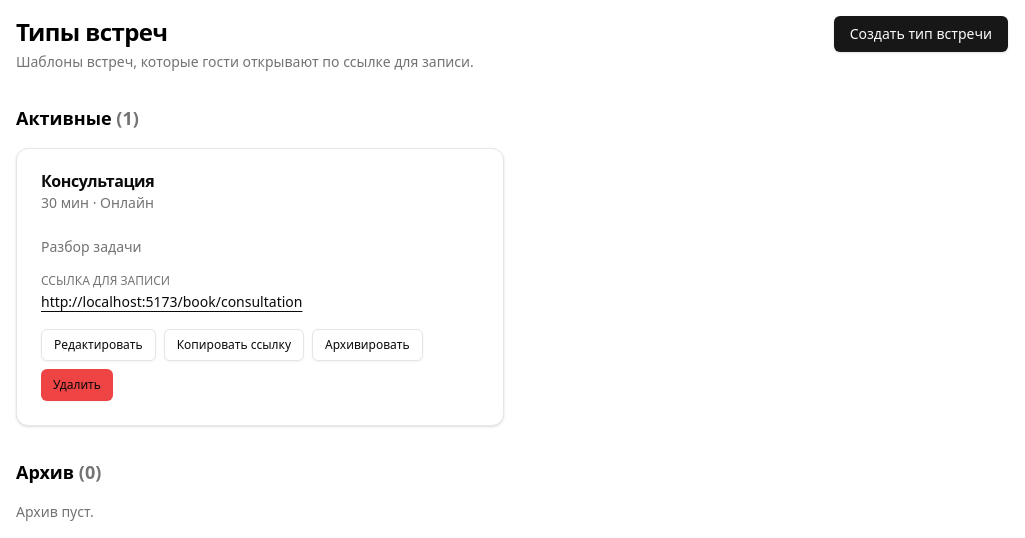
Test case: MeetingTypeListPage › copies an active scheduling link
Check: the link "Консультация" is shown, box [41, 170, 154, 192]
Click the button "Копировать ссылку". click: {"x": 234, "y": 345}
box: [164, 329, 304, 361]
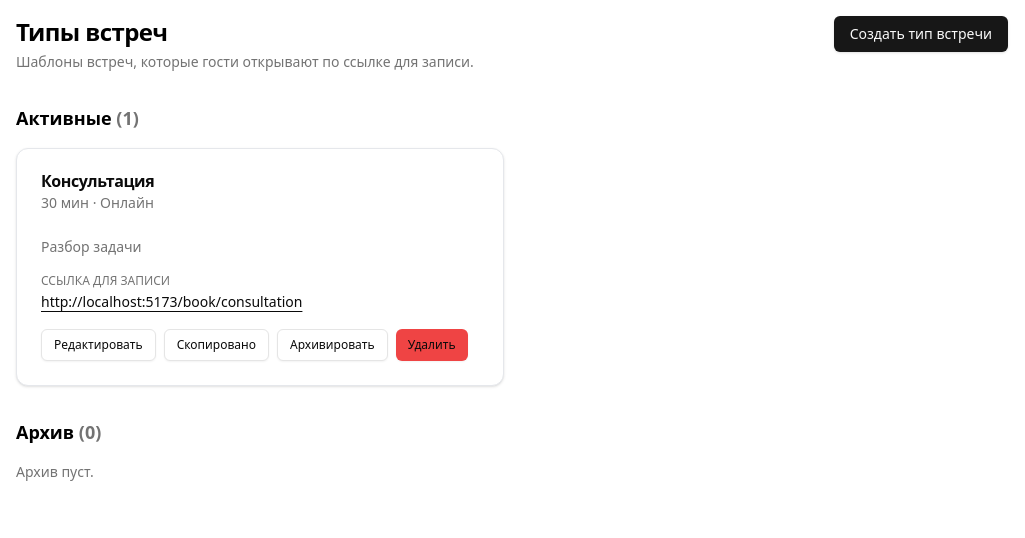
Check: the button "Скопировано" is shown, box [164, 329, 269, 361]
